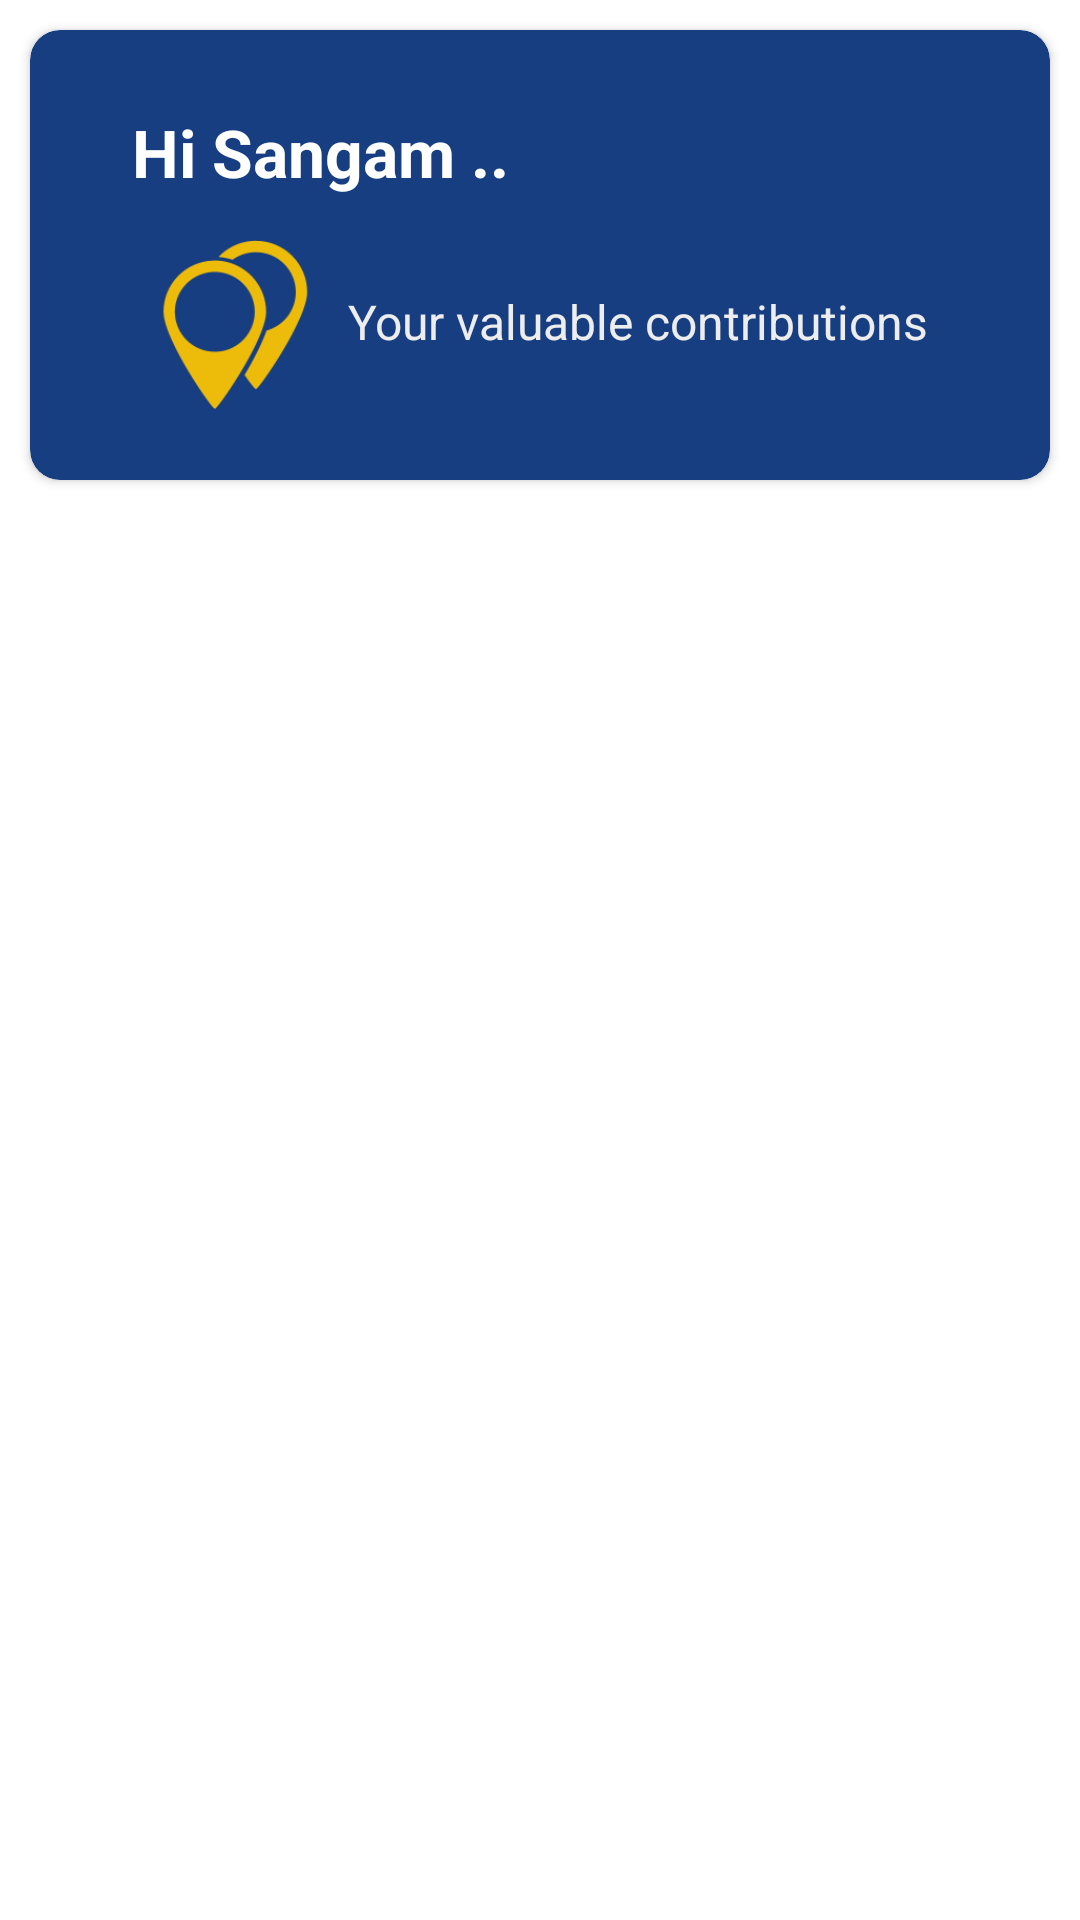

Icons on this 1080×1920 Android screen, each with the point to tap as (x=x, y=y):
location marker: (x=235, y=324)
